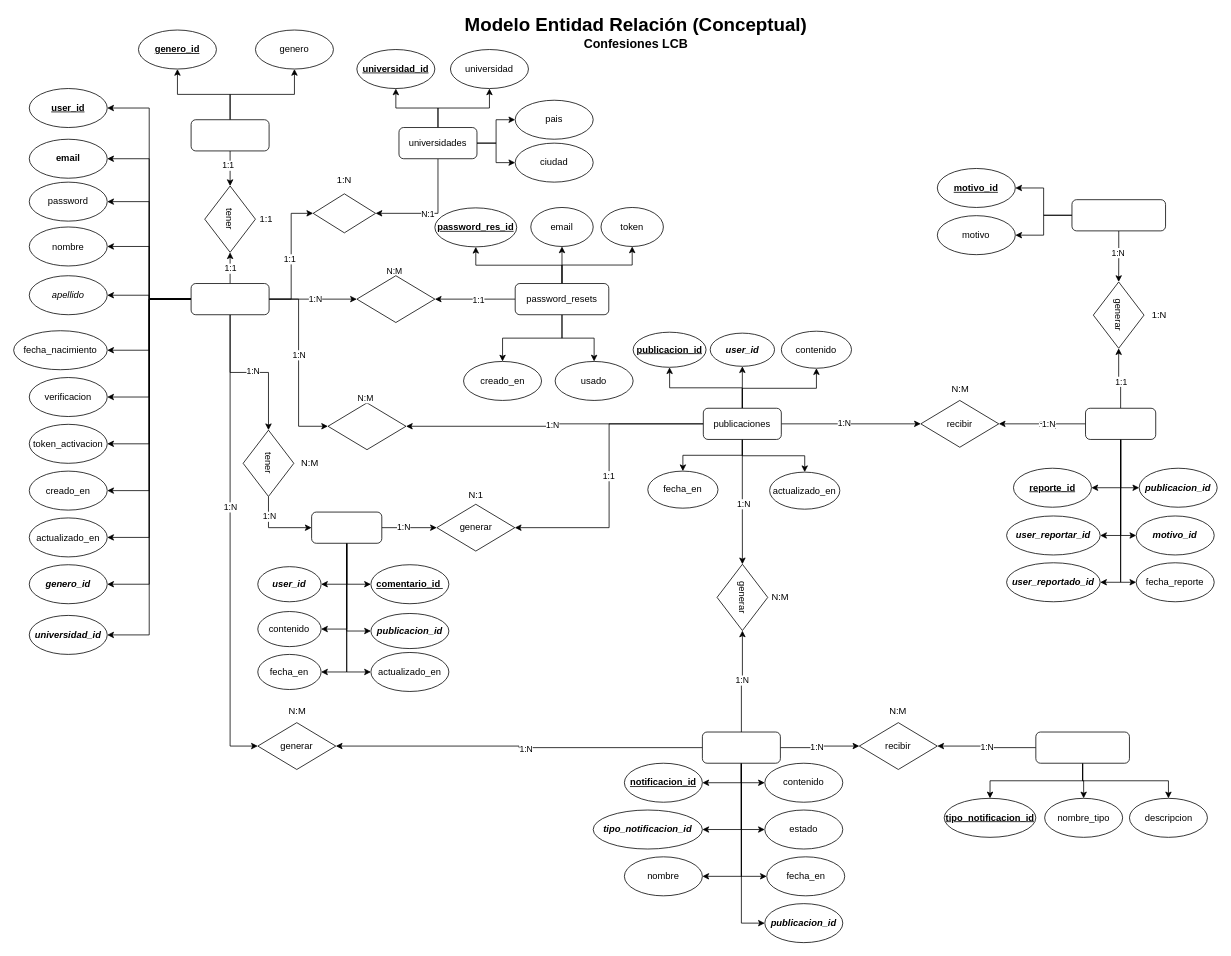
The diagram is 1231 pixels wide and 956 high, and some of its shapes have lost their labels. The centre of each missing label's shape, as x and y in pixels:
"comentarios" belongs at pixel 346 527.
"generos" belongs at pixel 229 135.
"hacer pertenecer" belongs at pixel 366 426.
"motivos" belongs at pixel 1118 215.
"notificaciones" belongs at pixel 741 747.
"pertenecer" belongs at pixel 344 213.
"reportes" belongs at pixel 1120 423.
"resetear" belongs at pixel 395 299.
"tipos_notificaciones" belongs at pixel 1082 747.
"usuarios" belongs at pixel 229 299.
